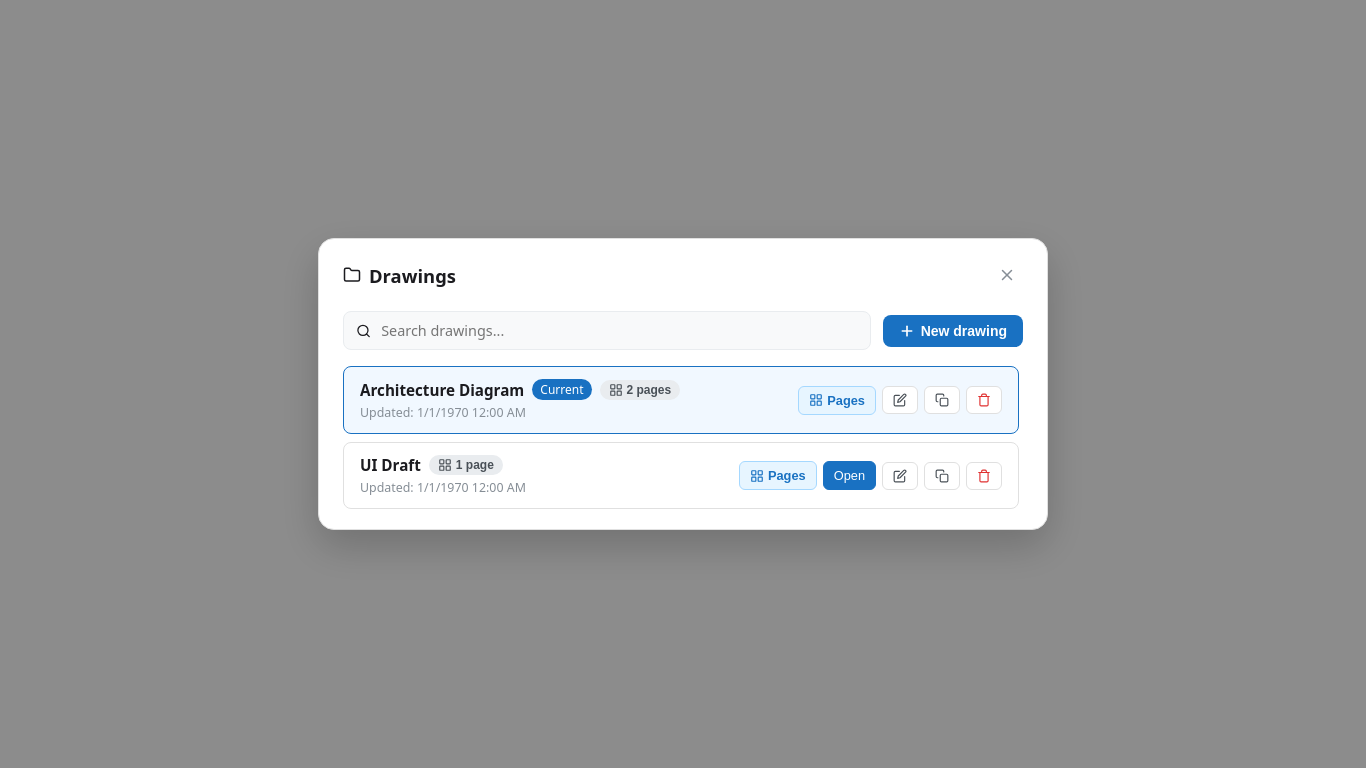
Scenario: MultiPage UI Components › should switch to page gallery view when clicking Pages button in DocumentManagerModal
# Click on the Pages button for Architecture Diagram
Click the button titled "View all pages in grid" in the row of "Current" at [837, 400], box [798,386,876,414]
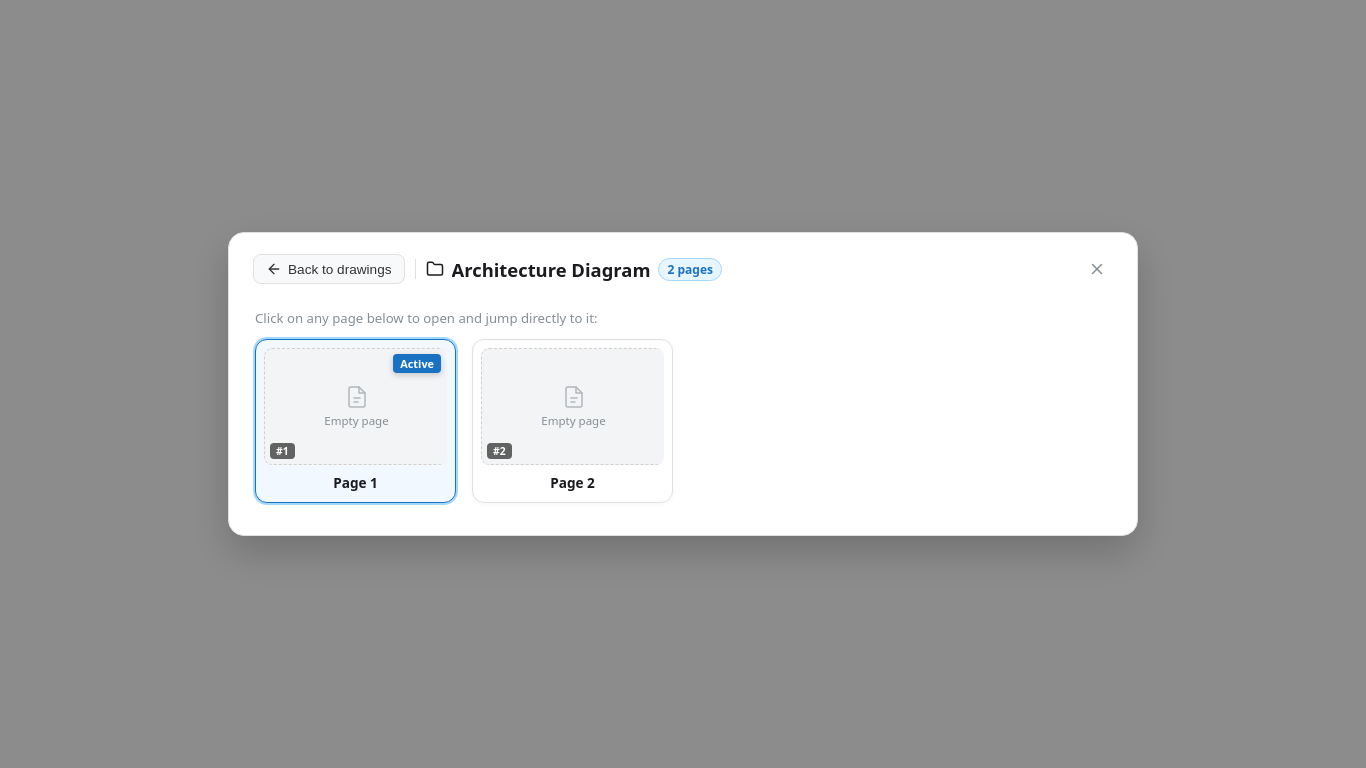
Now the text "Back to drawings" is shown, box [288,262,392,277]
Now the text "Page 1" is shown, box [333,473,378,492]
Now the text "Page 2" is shown, box [550,473,595,492]
